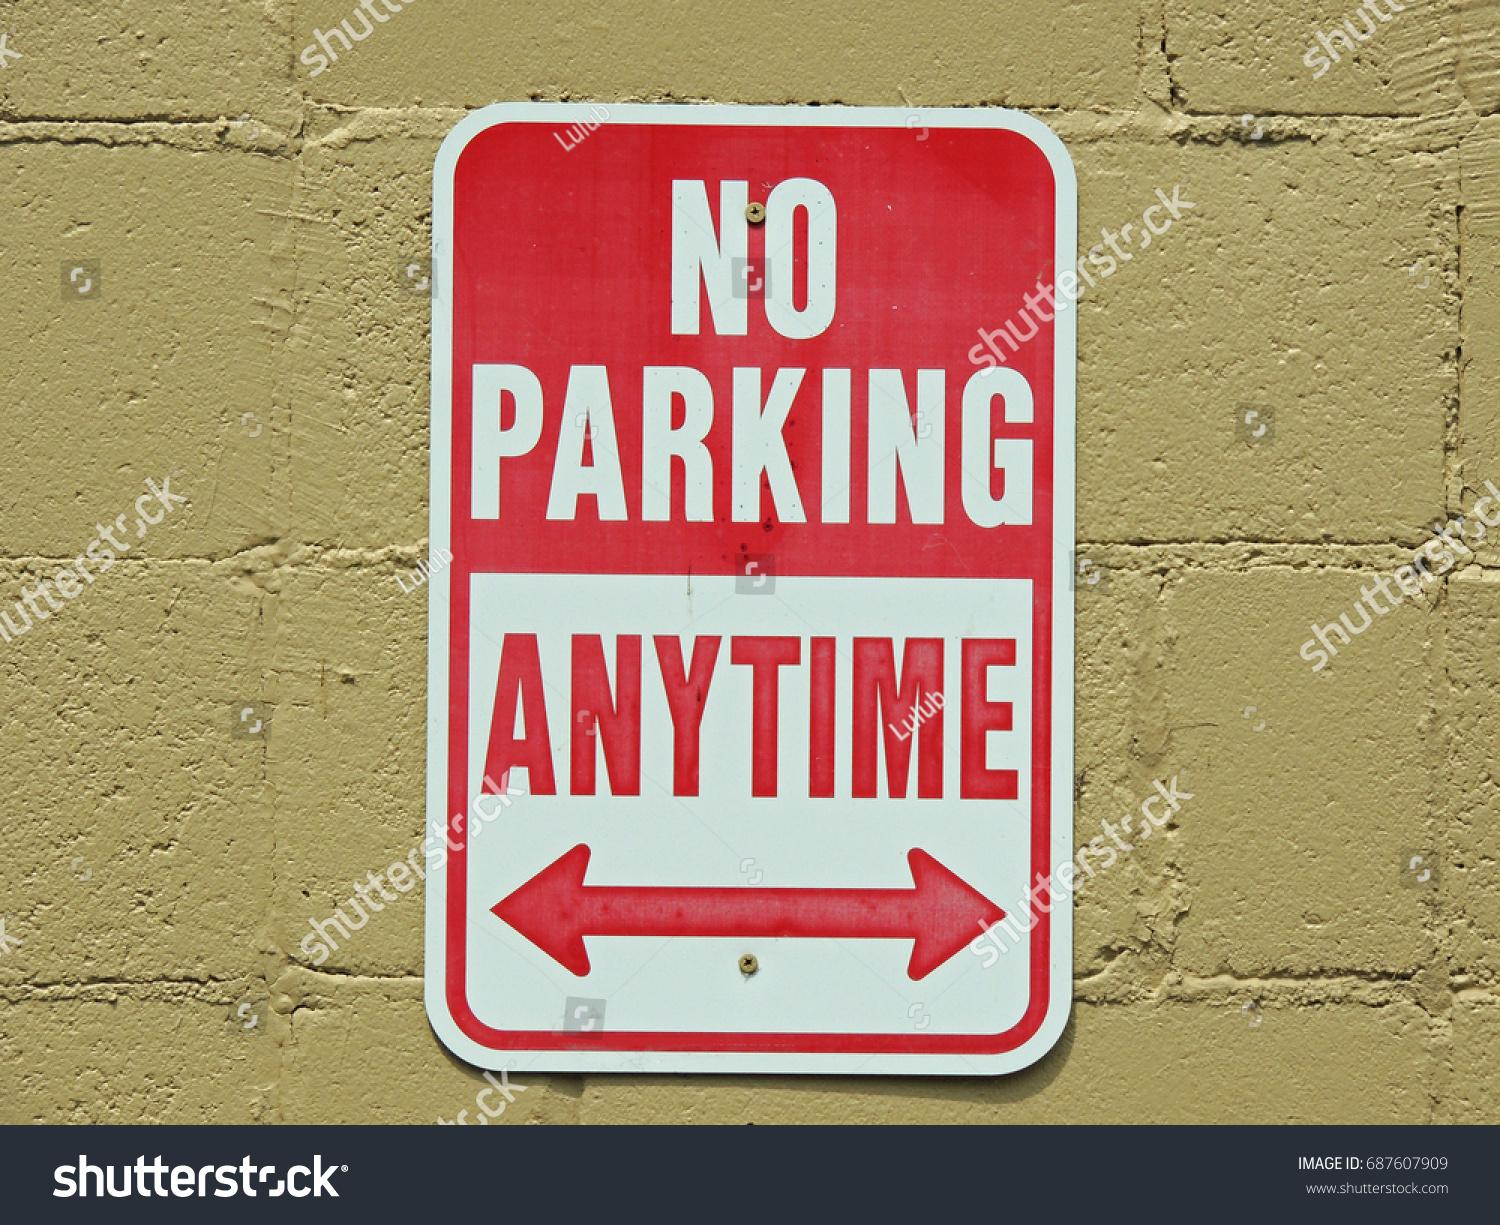No Parking: (476, 141, 1053, 570)
